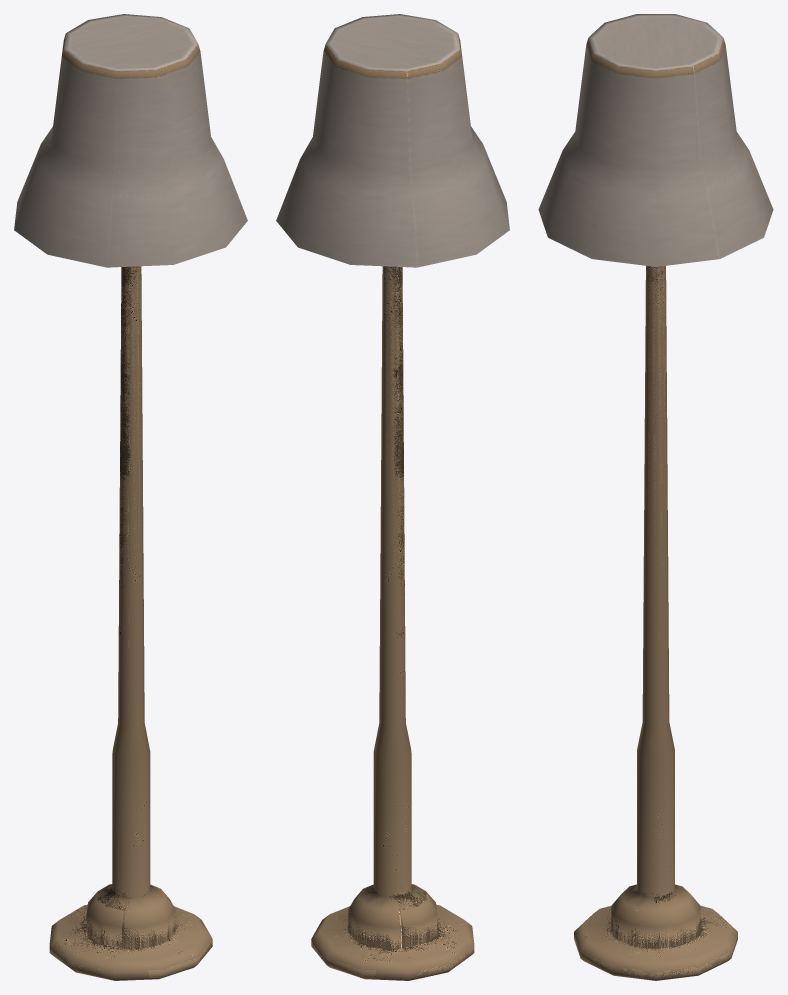
Rendered from standing_lamp_final.fbx.
3 views of the same model, side by side, from view 1: azimuth 30°, elevation 25°; view 2: azimuth 150°, elevation 25°; view 3: azimuth 270°, elevation 25° (orthographic).
Parts seen in each view (by area): view 1: standing_lamp; view 2: standing_lamp; view 3: standing_lamp.
Part boxes in pixels (x1,y1,x2,y2): standing_lamp: (14, 14, 247, 980); standing_lamp: (276, 14, 509, 980); standing_lamp: (538, 14, 773, 980).
Size of the model in its own units: 11.02 by 47.36 by 11.14.
Materials: 1 (1 with a texture image).
